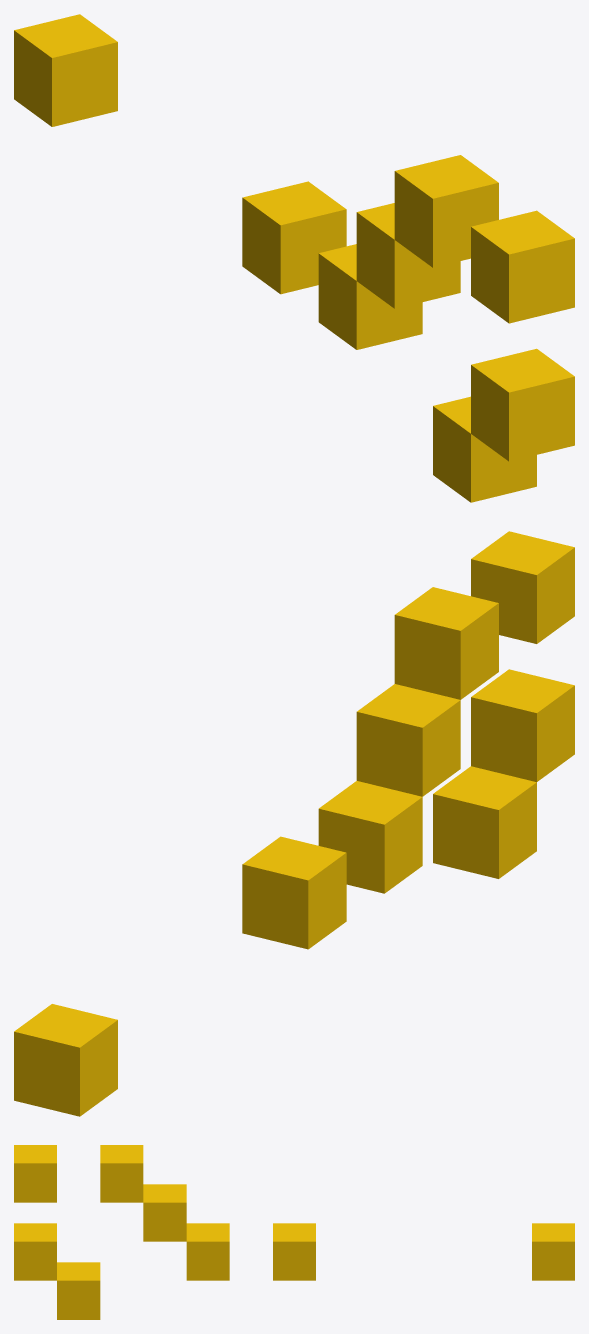
The model's file is Osiris_gold-1.obj.
3 renders of one model, top to bottom at view 1: azimuth 30°, elevation 25°; view 2: azimuth 150°, elevation 25°; view 3: azimuth 270°, elevation 25°, orthographic. The views are drawn at different scales.
Size of the model in its own units: 0.1 by 0.4 by 1.3.
Materials: 1 (1 with a texture image).
